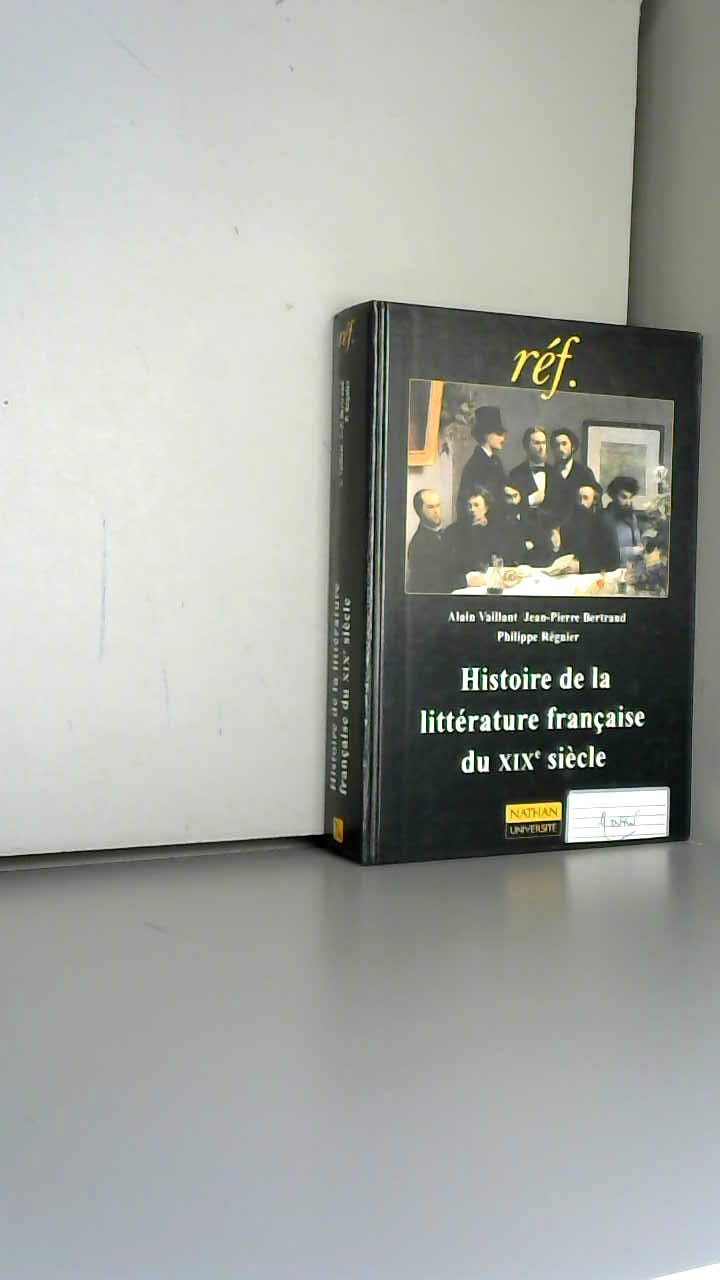book: (300, 270, 720, 887)
